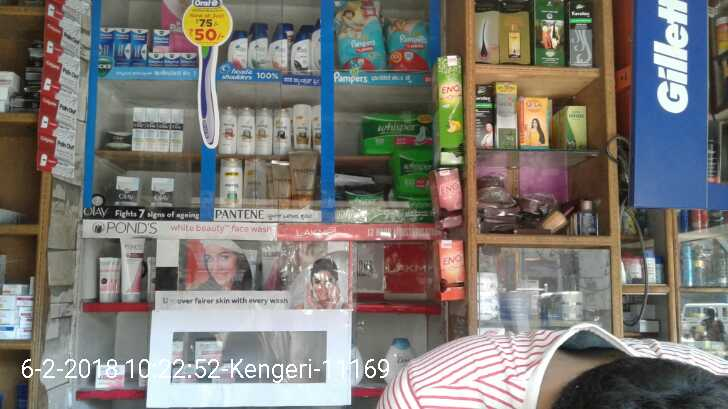beauty: (290, 150, 314, 210), (219, 156, 243, 209), (243, 158, 266, 209), (254, 107, 274, 155), (293, 103, 312, 151), (237, 105, 255, 155), (274, 106, 292, 155), (290, 33, 311, 75), (248, 30, 269, 71), (115, 175, 141, 207), (273, 166, 292, 209), (227, 29, 247, 69), (150, 176, 174, 209), (270, 33, 288, 75), (222, 105, 236, 155), (133, 106, 145, 152), (158, 107, 170, 153), (171, 107, 183, 153), (146, 107, 158, 152)
pharmacy: (332, 5, 386, 72), (357, 112, 430, 150), (385, 18, 429, 76), (390, 145, 434, 200)
